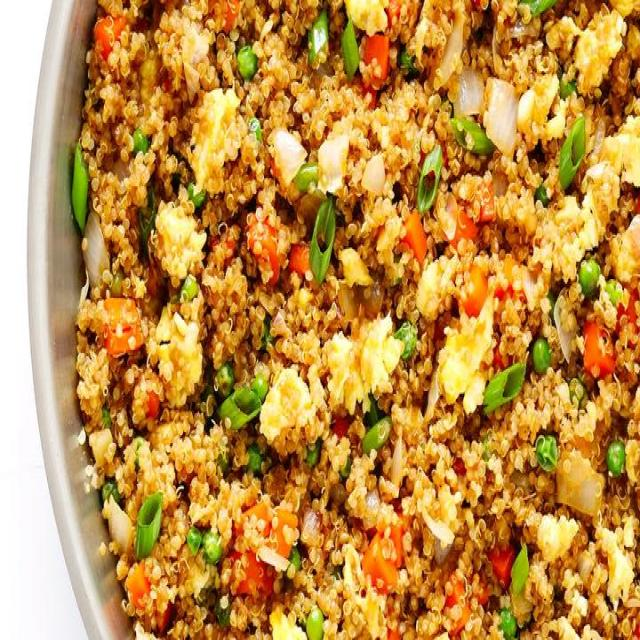Nasi Goreng: (70, 0, 638, 637)
